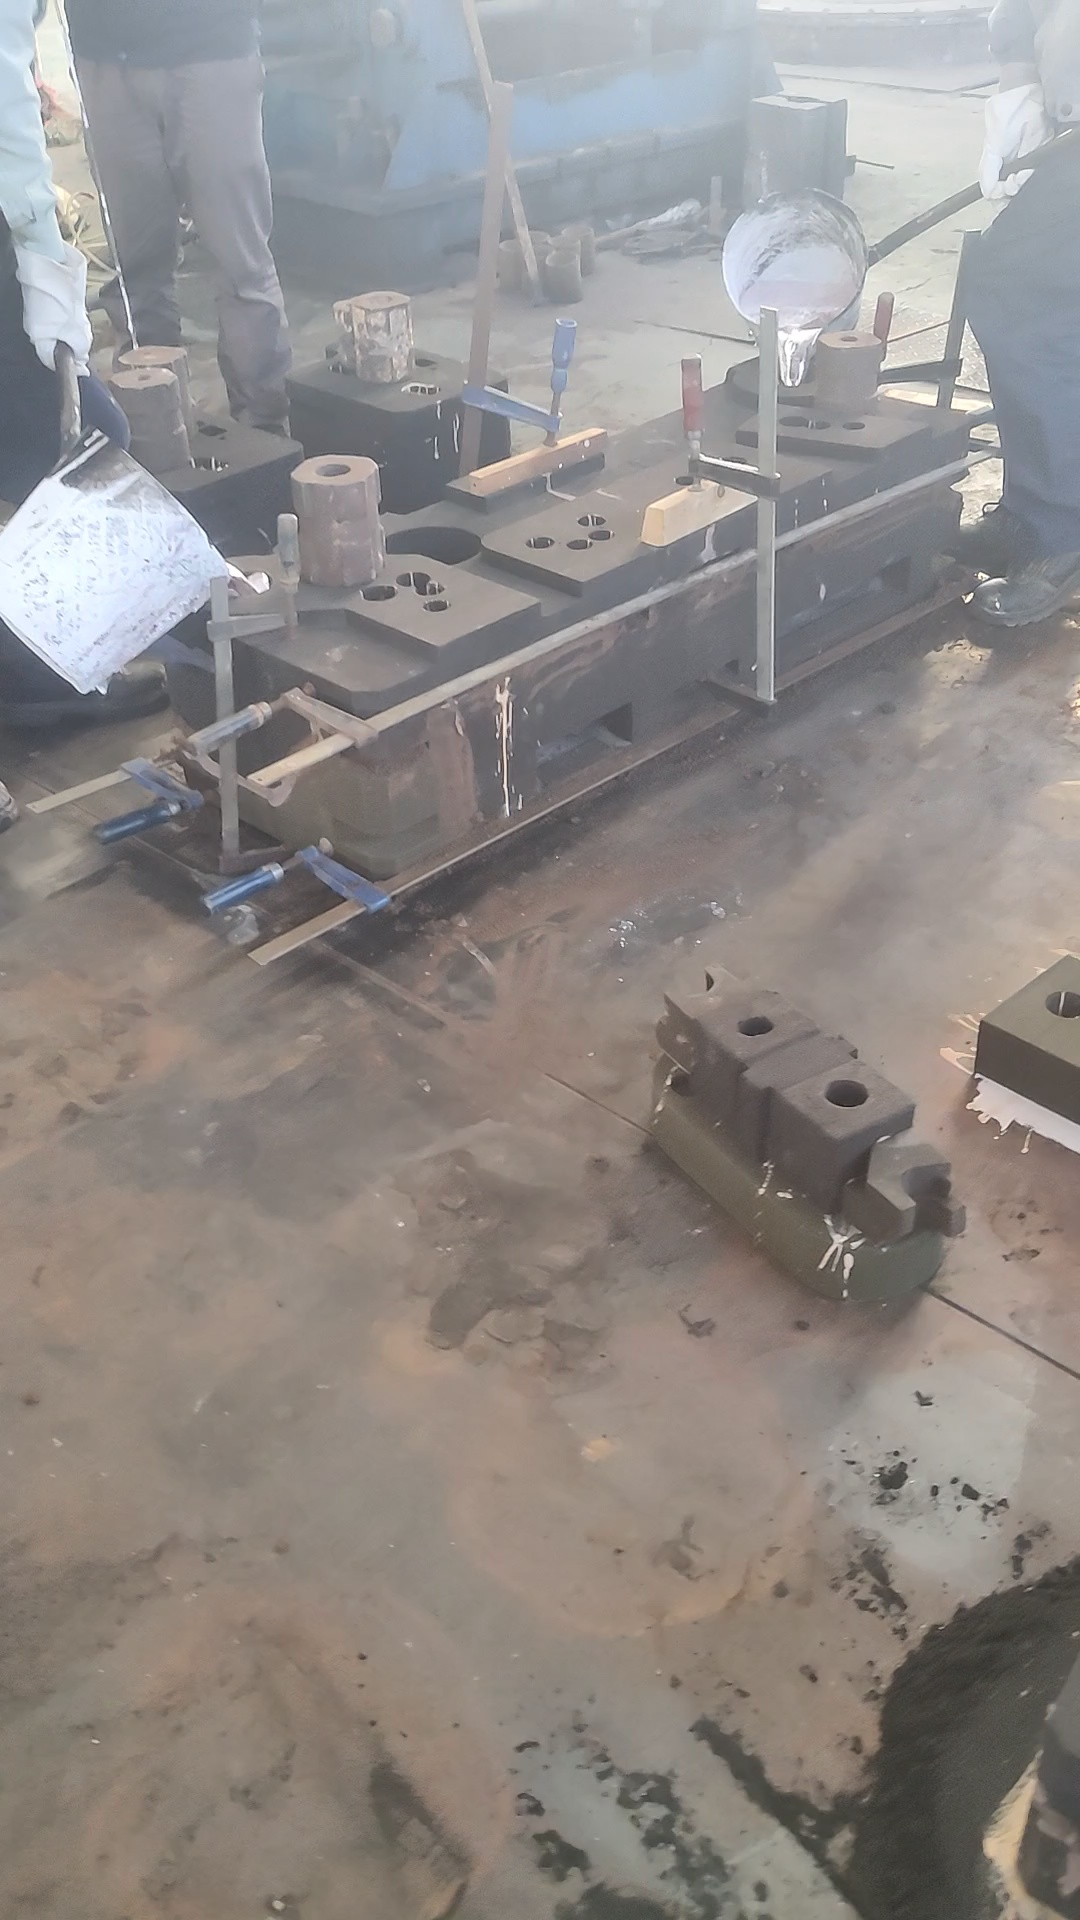pouring hole: (222, 567, 270, 597), (128, 378, 173, 406), (775, 357, 814, 386), (1046, 990, 1080, 1018), (348, 327, 378, 347), (547, 252, 578, 265), (520, 229, 549, 241), (560, 225, 595, 235), (526, 244, 553, 256), (549, 237, 580, 247), (500, 240, 524, 251)
